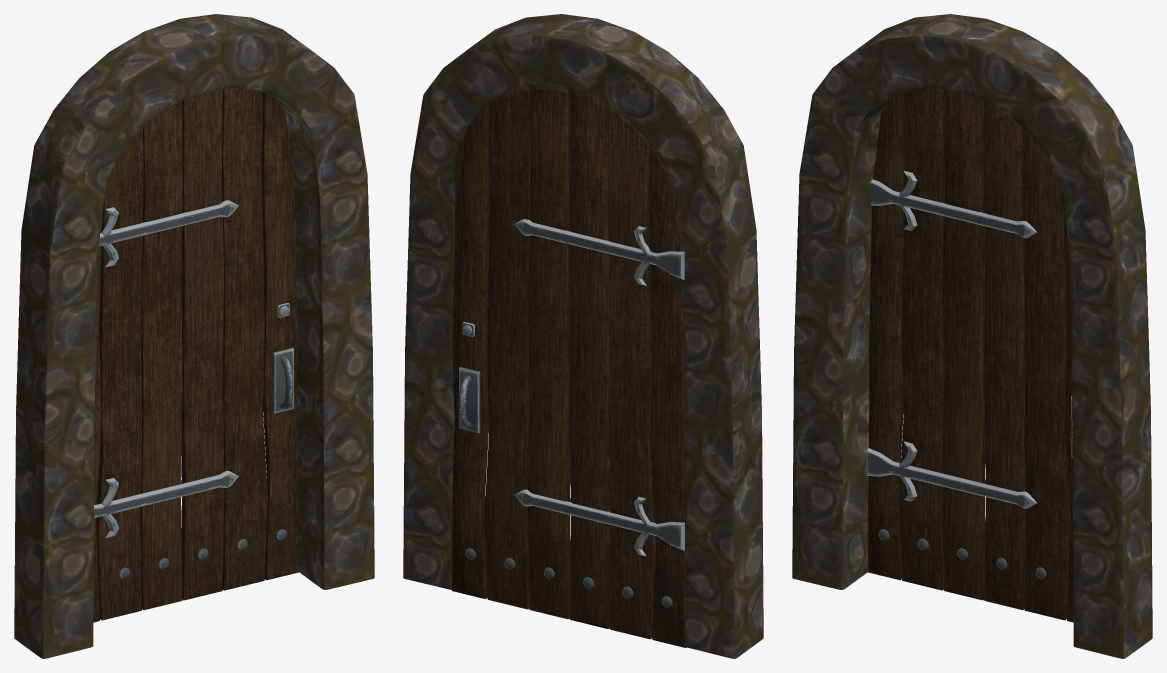
The model's file is medieval_door.glb.
The picture shows the model from 3 angles, left to right: view 1: azimuth 30°, elevation 25°; view 2: azimuth 150°, elevation 25°; view 3: azimuth 330°, elevation 25°; orthographic projection.
Parts seen in each view (by area): view 1: Cube.000, Cube.004; view 2: Cube.004, Cube.000; view 3: Cube.000, Cube.004.
Part boxes in pixels (x1,y1,x2,y2): Cube.000: (14, 14, 374, 658); Cube.004: (93, 88, 298, 622); Cube.004: (452, 83, 686, 647); Cube.000: (403, 14, 763, 658); Cube.000: (792, 14, 1152, 658); Cube.004: (866, 88, 1073, 622).
Size of the model in its own units: 537 by 894 by 111.
Materials: 1 (1 with a texture image).
